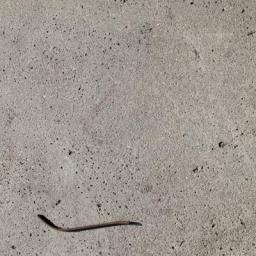FOD: (34, 210, 144, 240)
